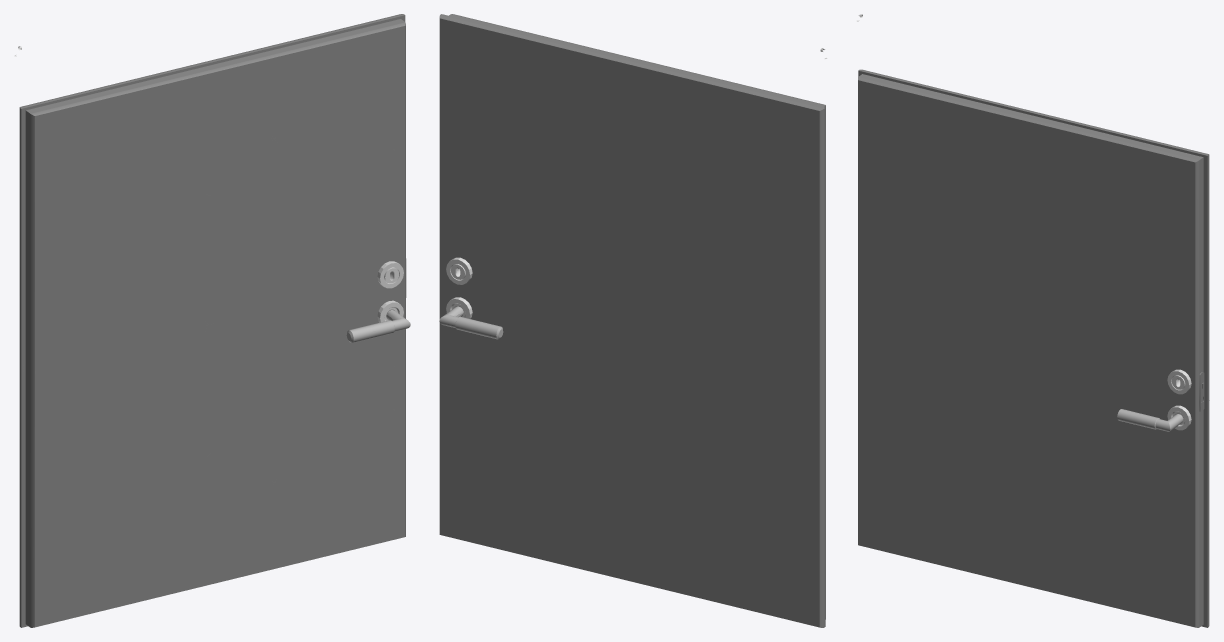
The model's file is door-part-2-gltf.gltf.
3 renders of one model, left to right at view 1: azimuth 30°, elevation 25°; view 2: azimuth 150°, elevation 25°; view 3: azimuth 330°, elevation 25°, orthographic. The views are drawn at different scales.
Visible parts, largest first — view 1: Plane001, Circle002; view 2: Plane001, Circle002; view 3: Plane001, Circle002.
Part boxes in pixels (x1,y1,x2,y2): Plane001: [14, 14, 406, 627]; Circle002: [346, 310, 410, 343]; Plane001: [439, 14, 827, 627]; Circle002: [439, 306, 503, 339]; Plane001: [857, 14, 1209, 627]; Circle002: [1117, 400, 1209, 431].
Bounding box in the file's own units: 1.72 × 2.45 × 0.34.
3 materials, 3 textured.
